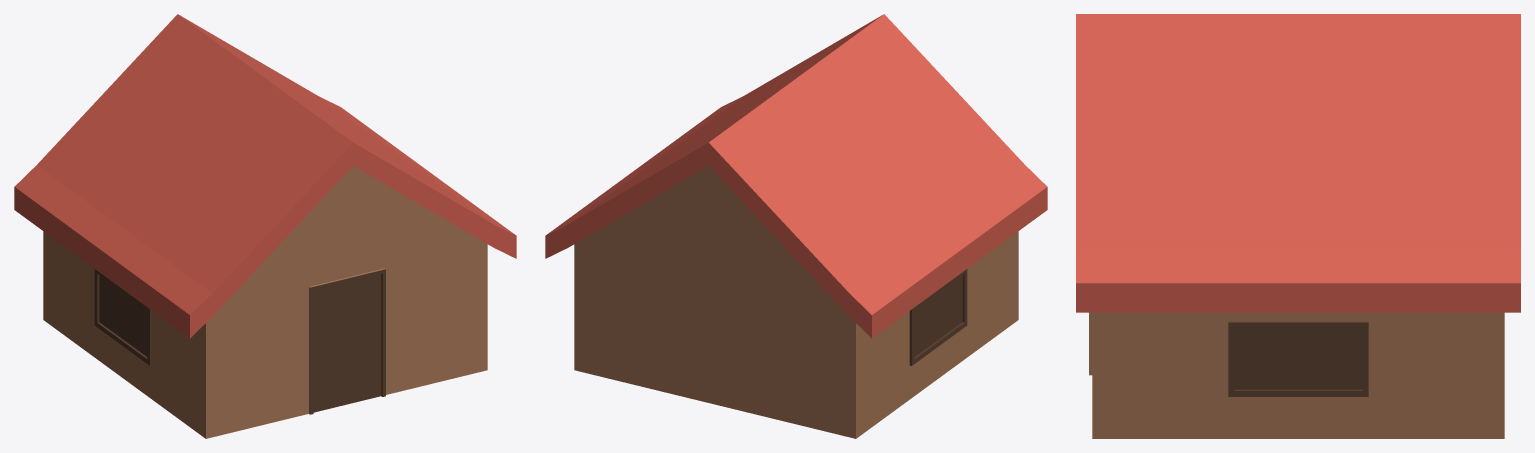
The model's file is House.fbx.
3 renders of one model, left to right at view 1: azimuth 30°, elevation 25°; view 2: azimuth 150°, elevation 25°; view 3: azimuth 270°, elevation 25°, orthographic. The views are drawn at different scales.
Visible parts, largest first — view 1: Cube; view 2: Cube; view 3: Cube.
Part boxes in pixels (x1=…): Cube: x1=14, y1=14, x2=516, y2=438; Cube: x1=545, y1=14, x2=1047, y2=438; Cube: x1=1076, y1=14, x2=1520, y2=438.
Bounding box in the file's own units: 1465 × 1144 × 1365.
